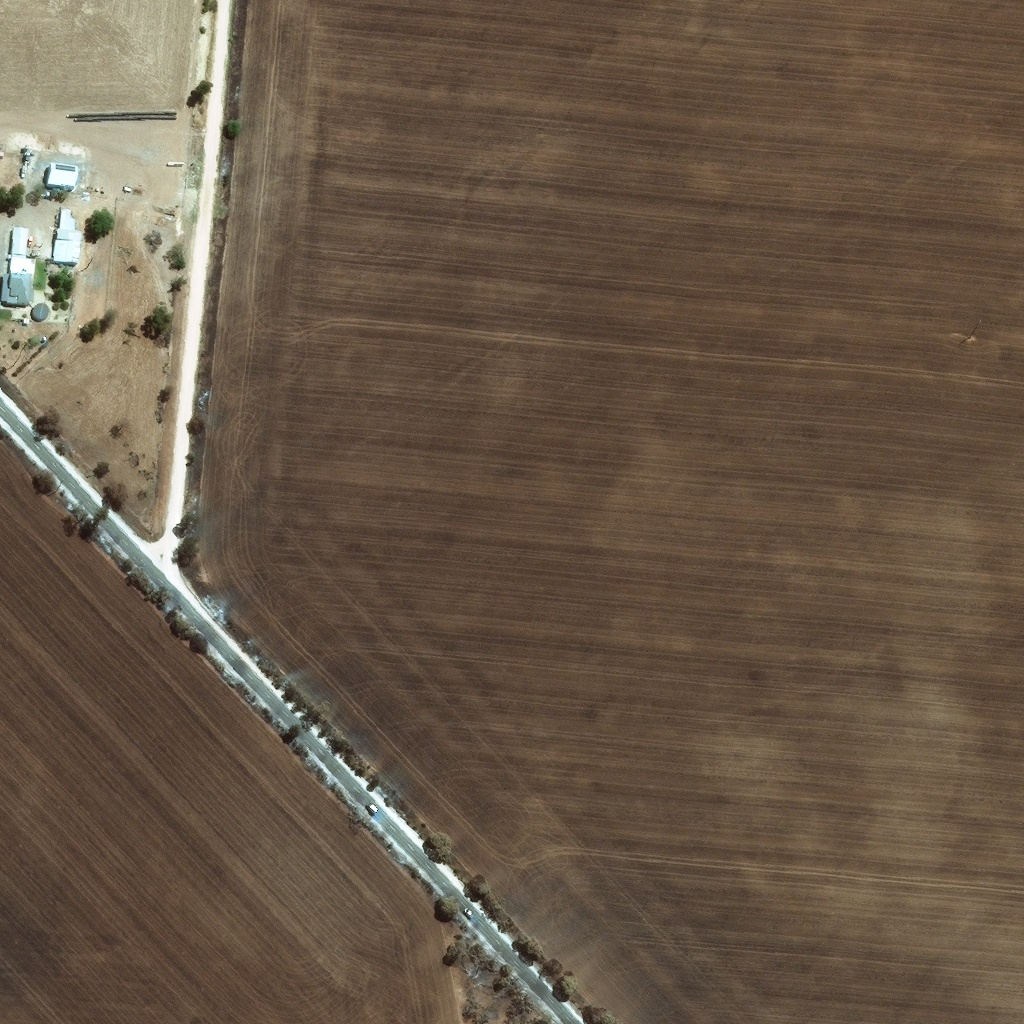0 no-damage: (53, 207, 83, 261), (8, 224, 35, 274), (0, 271, 33, 301), (47, 161, 77, 187), (20, 143, 37, 172), (59, 325, 77, 341), (34, 301, 49, 316), (23, 313, 30, 320), (42, 331, 48, 338)
